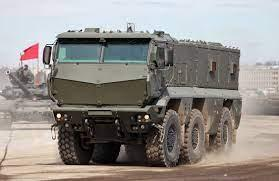tank: (1, 76, 52, 128)
truck: (49, 24, 251, 166)
